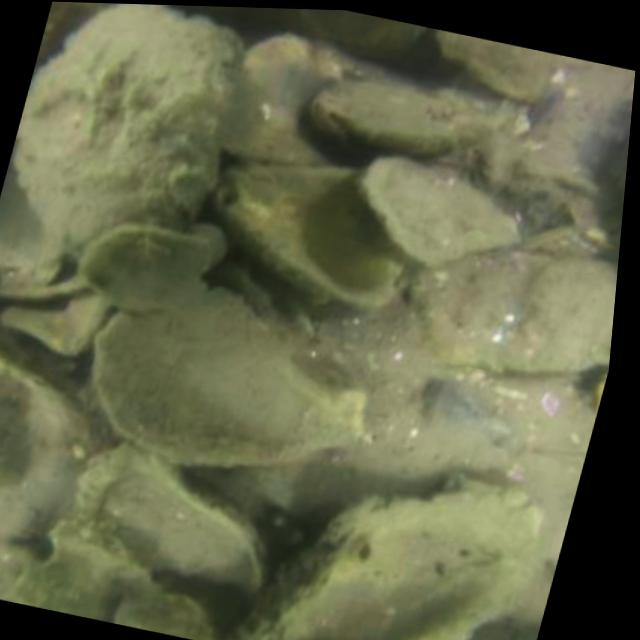Oyster-Closed: (312, 84, 489, 161)
Oyster-Indeterminate: (9, 4, 249, 260), (220, 476, 551, 640), (84, 289, 360, 470), (209, 158, 414, 312), (412, 256, 618, 375), (361, 157, 520, 259), (433, 29, 558, 103)
